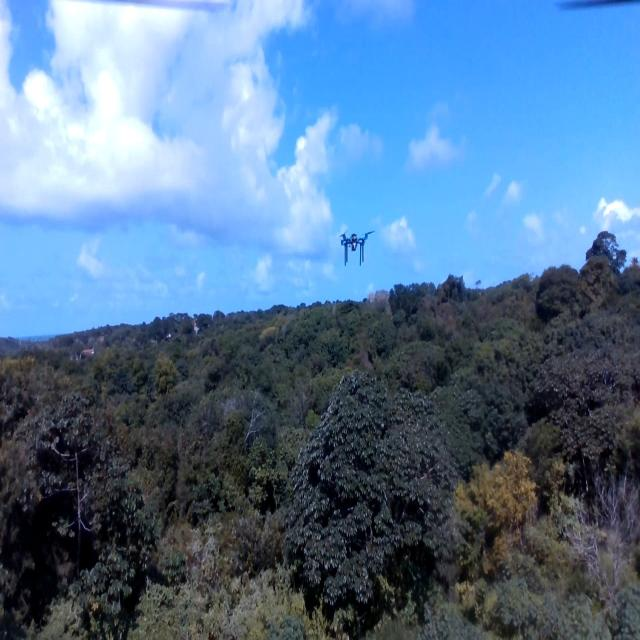-uav-: (333, 220, 378, 272)
